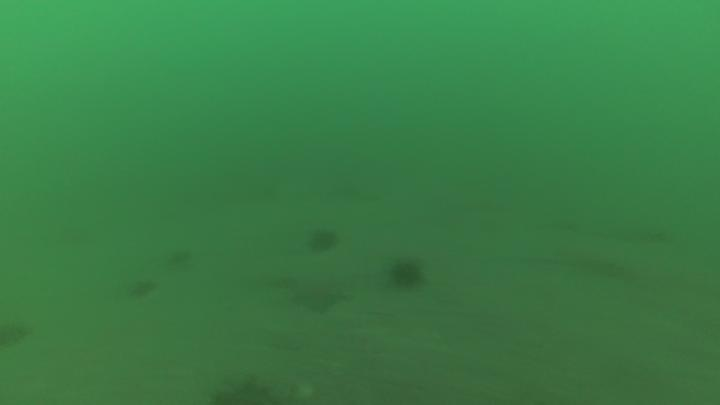echinus: (386, 255, 427, 293), (305, 225, 342, 257), (0, 316, 33, 351), (125, 274, 160, 303), (164, 245, 197, 273)
starfish: (289, 274, 352, 317)
